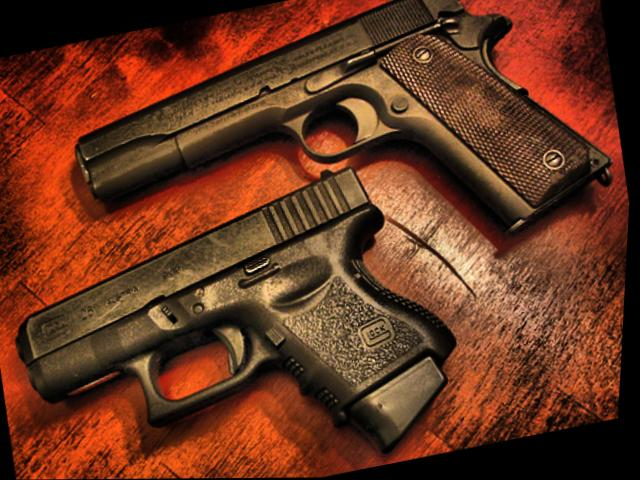pistol: (46, 0, 630, 319), (0, 145, 492, 480)
